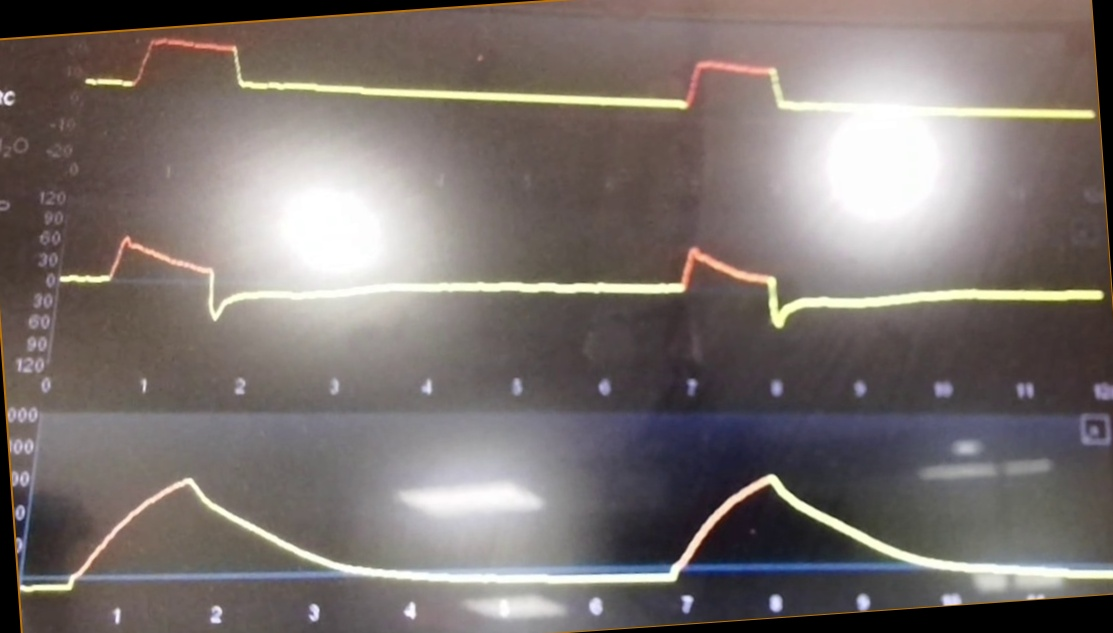Normal Flow: (62, 214, 1101, 363)
Normal Volume: (29, 463, 1113, 595)
